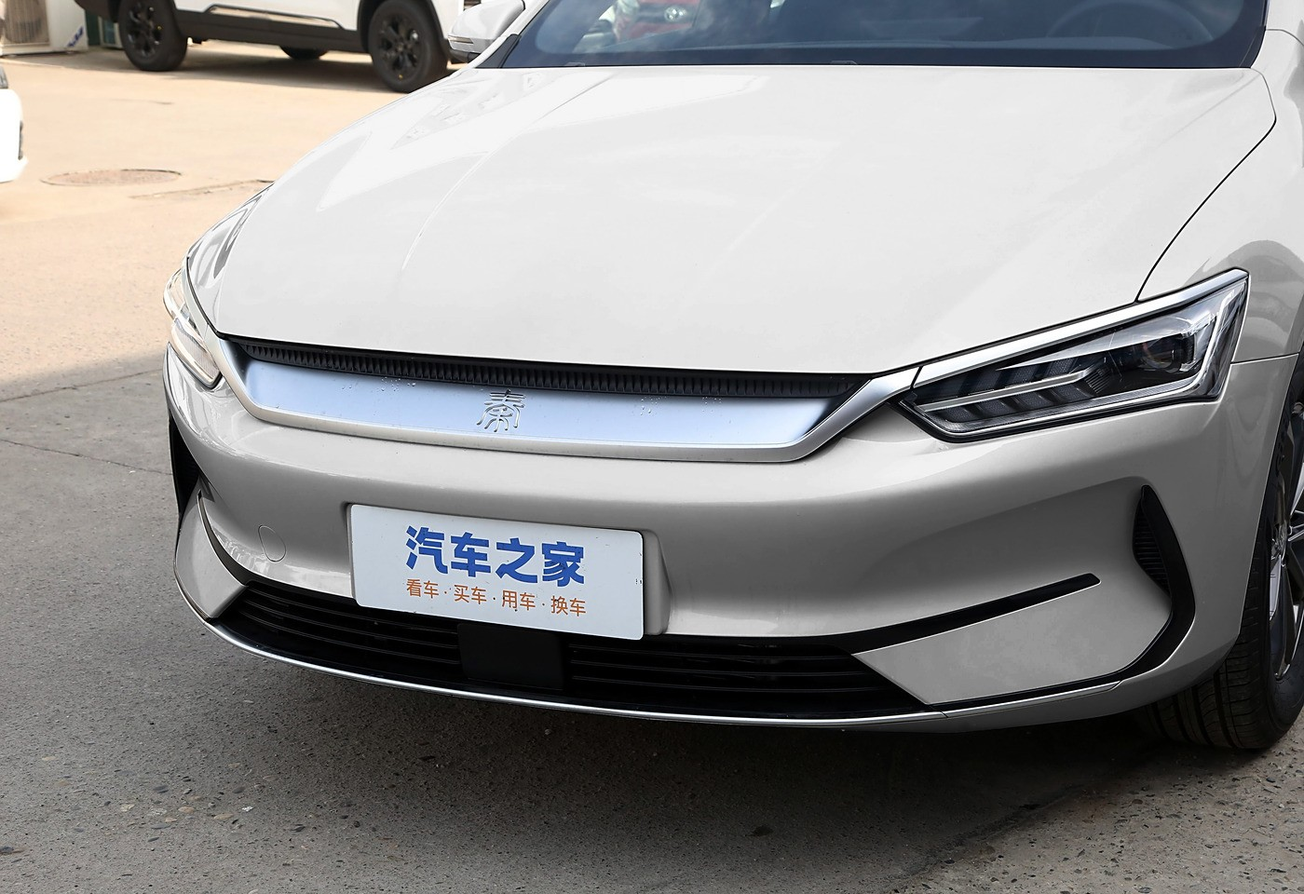BYD Qin: (477, 389, 525, 431)
